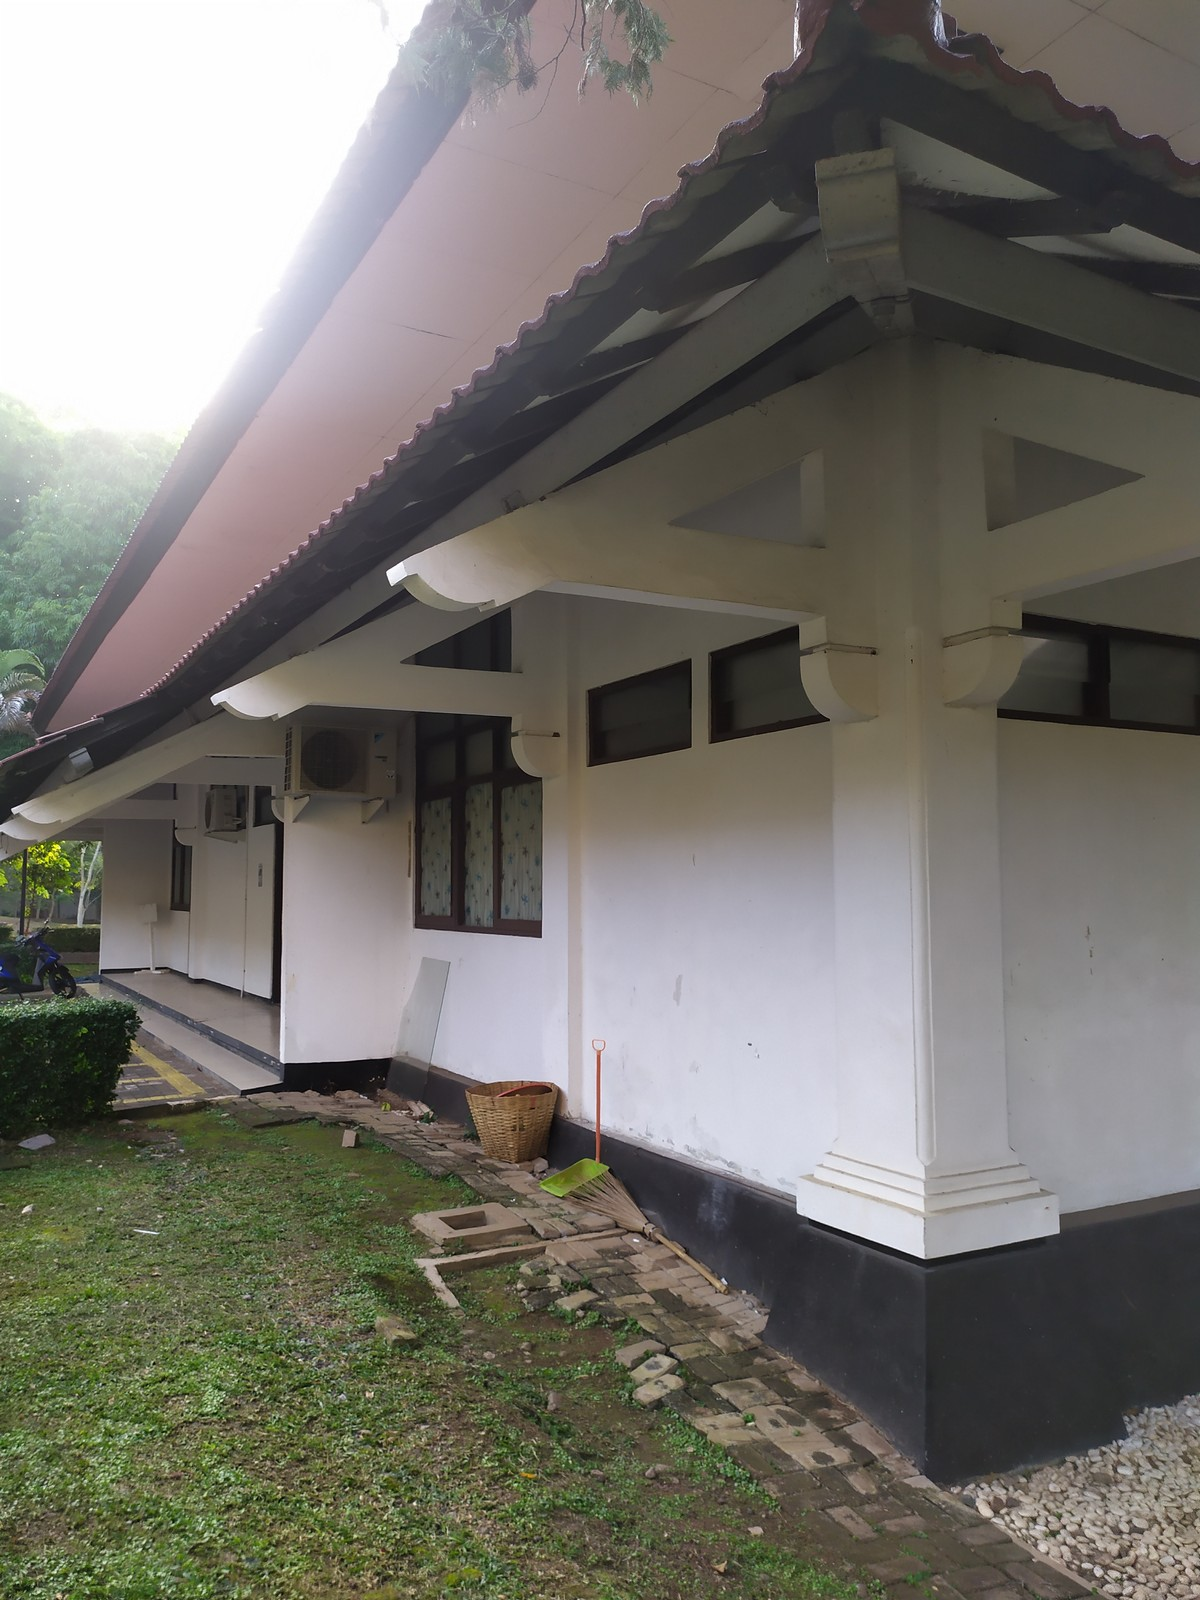concrete beam: (572, 517, 839, 632), (979, 484, 1186, 619)
concrete column: (818, 438, 1020, 1203), (534, 677, 594, 1112)
